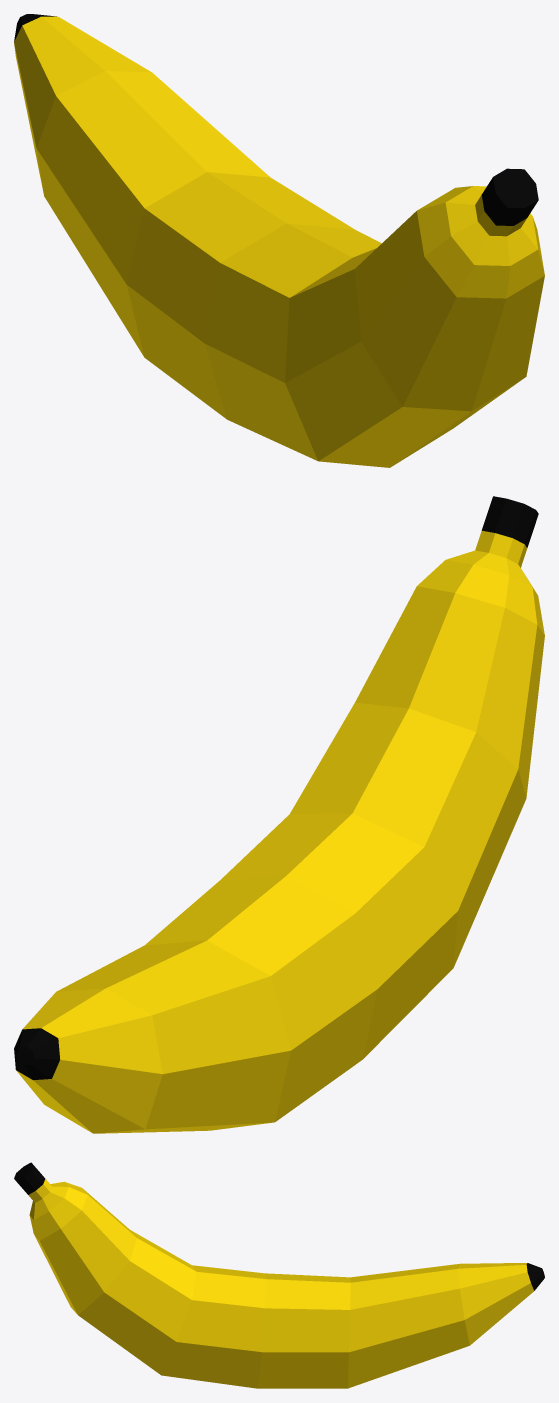
The model's file is banana.fbx.
The picture shows the model from 3 angles, top to bottom: view 1: azimuth 30°, elevation 25°; view 2: azimuth 150°, elevation 25°; view 3: azimuth 270°, elevation 25°; orthographic projection. The views are drawn at different scales.
Visible parts, largest first — view 1: Cube; view 2: Cube; view 3: Cube.
Part boxes in pixels (x1,y1,x2,y2): Cube: [14, 14, 544, 467]; Cube: [14, 496, 544, 1133]; Cube: [14, 1162, 544, 1388].
Size of the model in its own units: 125 by 286 by 627.
